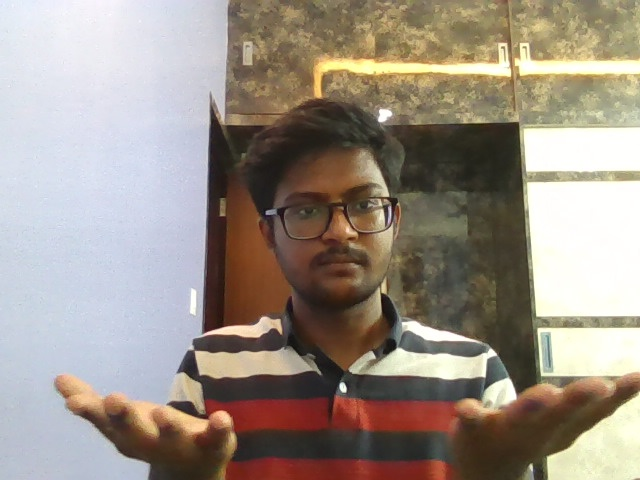what: (47, 366, 640, 473)
